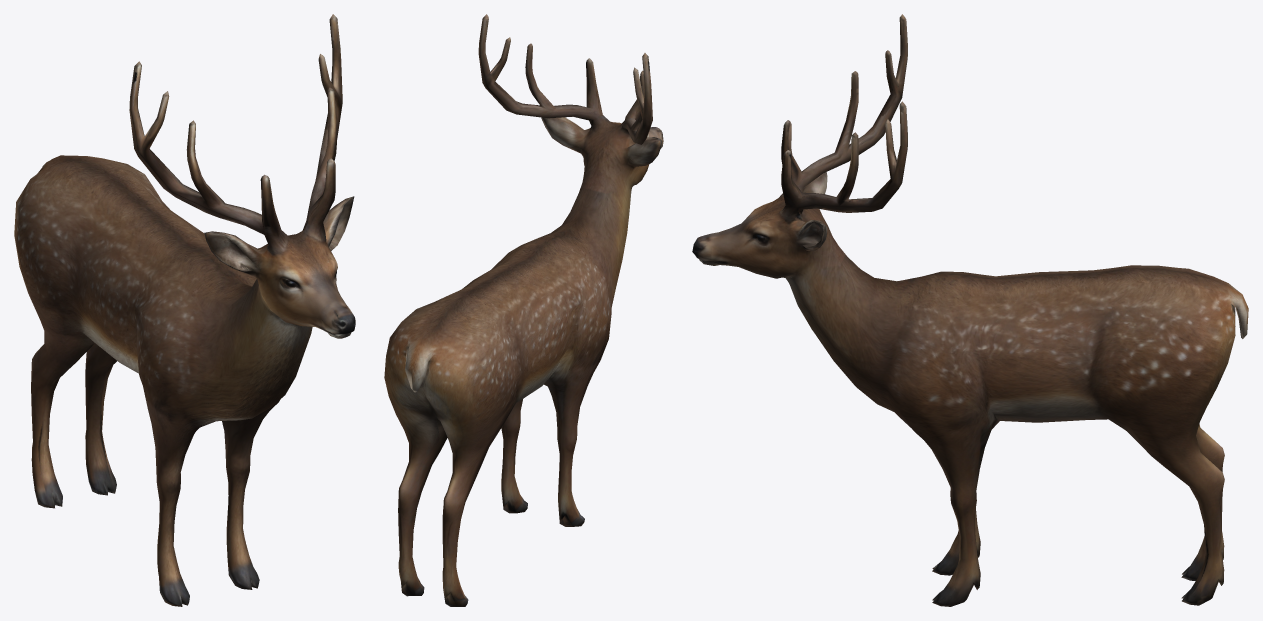
File: deer_remesh_0410234018_texture.obj
3 views of the same model, side by side, from view 1: azimuth 30°, elevation 25°; view 2: azimuth 150°, elevation 25°; view 3: azimuth 270°, elevation 25° (orthographic). The views are drawn at different scales.
Visible parts, largest first — view 1: deer_remesh_0410234018_texture; view 2: deer_remesh_0410234018_texture; view 3: deer_remesh_0410234018_texture.
Boxes of the visible parts, x1,y1,x2,y2 form: deer_remesh_0410234018_texture: (14,14,355,606); deer_remesh_0410234018_texture: (384,14,663,606); deer_remesh_0410234018_texture: (692,14,1248,606).
Bounding box in the file's own units: 0.7617 × 2 × 1.9.
1 material, 1 textured.
